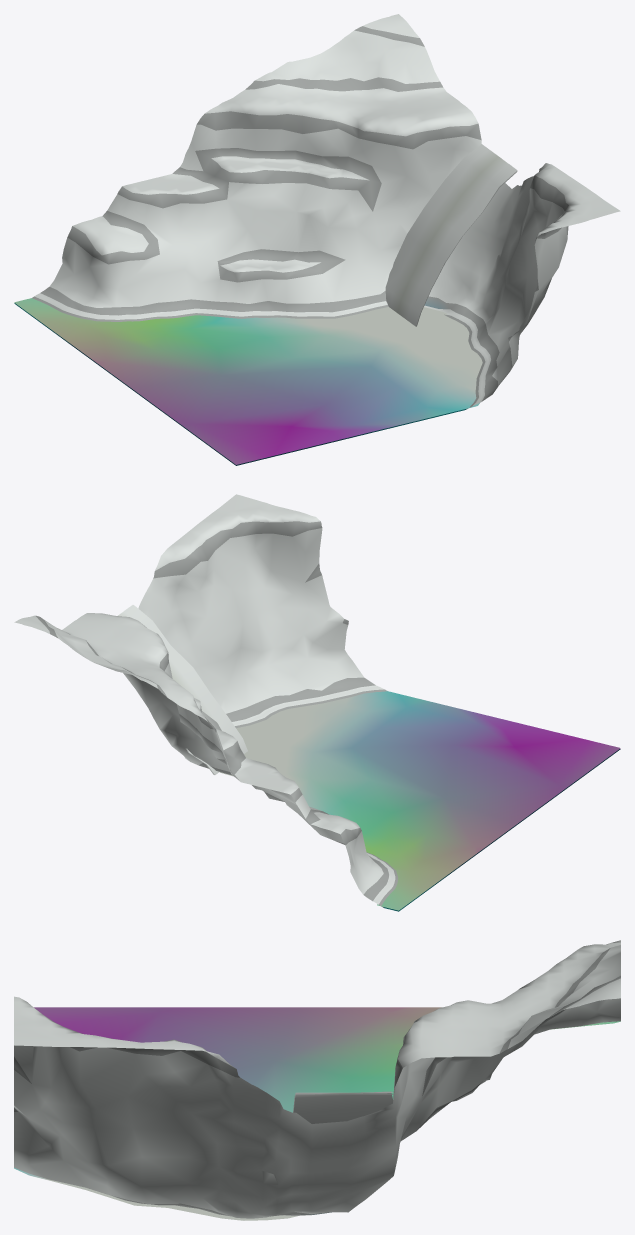
3 renders of one model, top to bottom at view 1: azimuth 30°, elevation 25°; view 2: azimuth 150°, elevation 25°; view 3: azimuth 270°, elevation 25°, orthographic. The views are drawn at different scales.
Visible parts, largest first — view 1: G:\FFXIV-MapTools\exports\r2f1\bg\ex1\01_roc_r2\fld\r2f1\bgp (×7); view 2: G:\FFXIV-MapTools\exports\r2f1\bg\ex1\01_roc_r2\fld\r2f1\bgp (×6); view 3: G:\FFXIV-MapTools\exports\r2f1\bg\ex1\01_roc_r2\fld\r2f1\bgp (×5).
Part boxes in pixels (x1,y1,x2,y2): G:\FFXIV-MapTools\exports\r2f1\bg\ex1\01_roc_r2\fld\r2f1\bgp (×7): (14, 14, 620, 465); G:\FFXIV-MapTools\exports\r2f1\bg\ex1\01_roc_r2\fld\r2f1\bgp (×6): (14, 494, 620, 910); G:\FFXIV-MapTools\exports\r2f1\bg\ex1\01_roc_r2\fld\r2f1\bgp (×5): (14, 940, 620, 1220).
Bounding box in the file's own units: 128 × 62.25 × 128.
